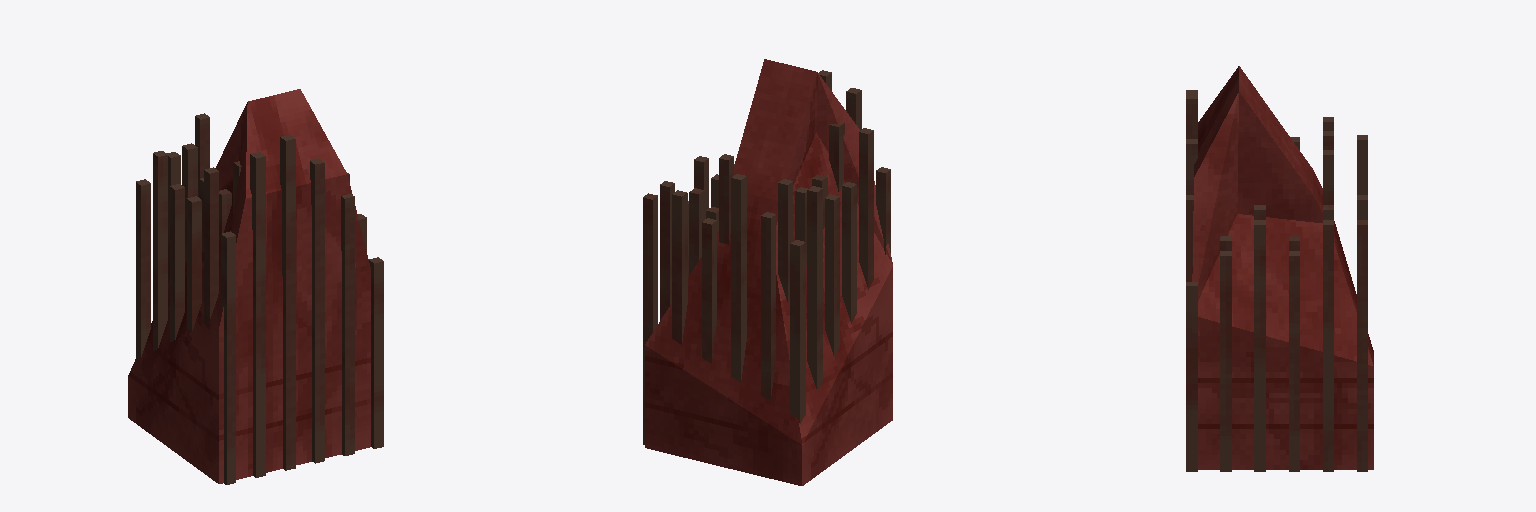
3 renders of one model, left to right at view 1: azimuth 30°, elevation 25°; view 2: azimuth 150°, elevation 25°; view 3: azimuth 270°, elevation 25°, orthographic.
Parts seen in each view (by area): view 1: cuboid; view 2: cuboid; view 3: cuboid.
Part boxes in pixels (left/top/right/bottom): cuboid: left=128, top=89, right=383, bottom=484; cuboid: left=643, top=59, right=892, bottom=485; cuboid: left=1186, top=66, right=1373, bottom=471.
Bounding box in the file's own units: 1.03 × 2.14 × 1.03.
1 materials, 1 textured.